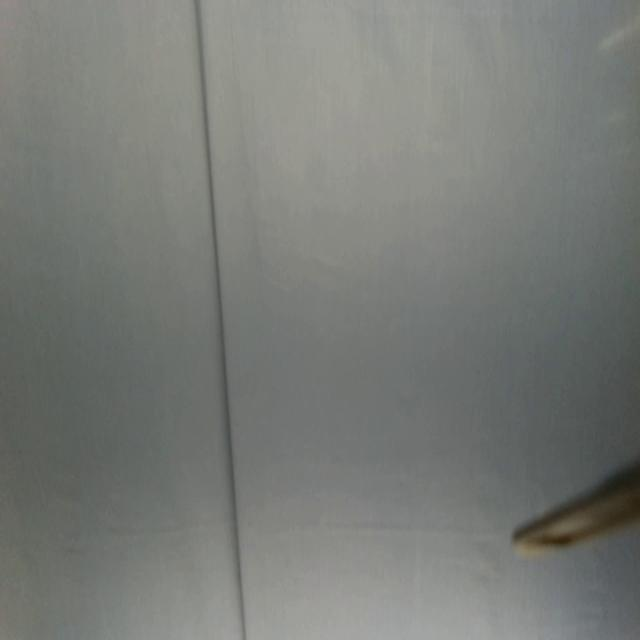crease: (194, 1, 247, 640)
